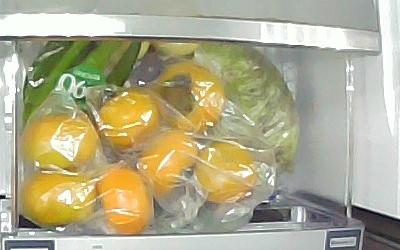persimmon_vinyl: (151, 62, 225, 136), (23, 170, 95, 228), (136, 130, 198, 197), (24, 112, 98, 167), (98, 168, 154, 235), (100, 89, 161, 150), (197, 141, 257, 202)
